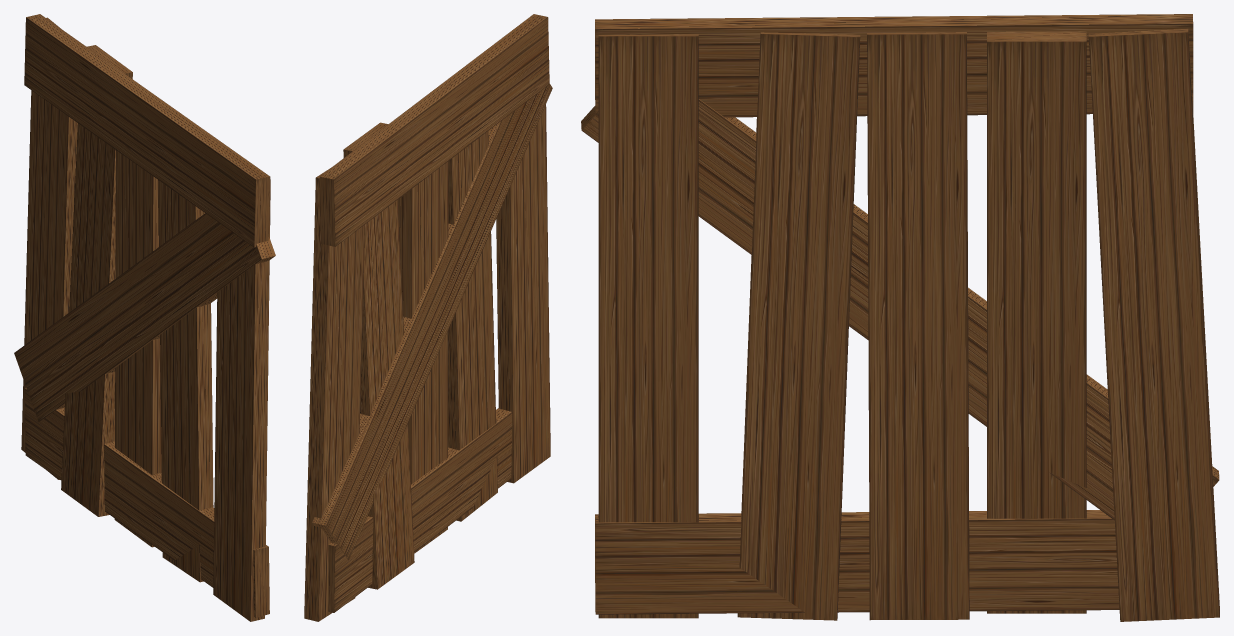
The model's file is planks.fbx.
3 views of the same model, side by side, from view 1: azimuth 30°, elevation 25°; view 2: azimuth 150°, elevation 25°; view 3: azimuth 270°, elevation 25° (orthographic). The views are drawn at different scales.
Visible parts, largest first — view 1: Plank_5, Plank_7, Plank, Plank_3, Plank_1, Plank_6, Plank_2, Plank_4; view 2: Plank_7, Plank_5, Plank_2, Plank, Plank_3, Plank_1, Plank_6, Plank_4; view 3: Plank_2, Plank_4, Plank_1, Plank, Plank_3, Plank_6, Plank_5, Plank_7.
Boxes of the visible parts, bbox=[...] form: Plank_5: bbox=[24, 14, 270, 247]; Plank_7: bbox=[14, 213, 275, 421]; Plank: bbox=[213, 179, 270, 621]; Plank_3: bbox=[61, 45, 132, 516]; Plank_1: bbox=[158, 180, 213, 582]; Plank_6: bbox=[24, 388, 269, 617]; Plank_2: bbox=[21, 17, 77, 479]; Plank_4: bbox=[114, 150, 161, 547]; Plank_7: bbox=[312, 84, 552, 560]; Plank_5: bbox=[319, 14, 549, 246]; Plank_2: bbox=[304, 168, 364, 621]; Plank: bbox=[496, 104, 550, 483]; Plank_3: bbox=[343, 122, 414, 589]; Plank_1: bbox=[448, 131, 497, 521]; Plank_6: bbox=[328, 408, 512, 612]; Plank_4: bbox=[398, 161, 448, 553]; Plank_2: bbox=[1088, 28, 1219, 621]; Plank_4: bbox=[867, 32, 969, 620]; Plank_1: bbox=[737, 32, 860, 620]; Plank: bbox=[598, 34, 698, 618]; Plank_3: bbox=[987, 31, 1086, 613]; Plank_6: bbox=[595, 510, 1119, 614]; Plank_5: bbox=[595, 14, 1193, 117]; Plank_7: bbox=[581, 99, 1219, 518].
Bounding box in the file's own units: 107 × 1316 × 1281.
Materials: 1 (1 with a texture image).
